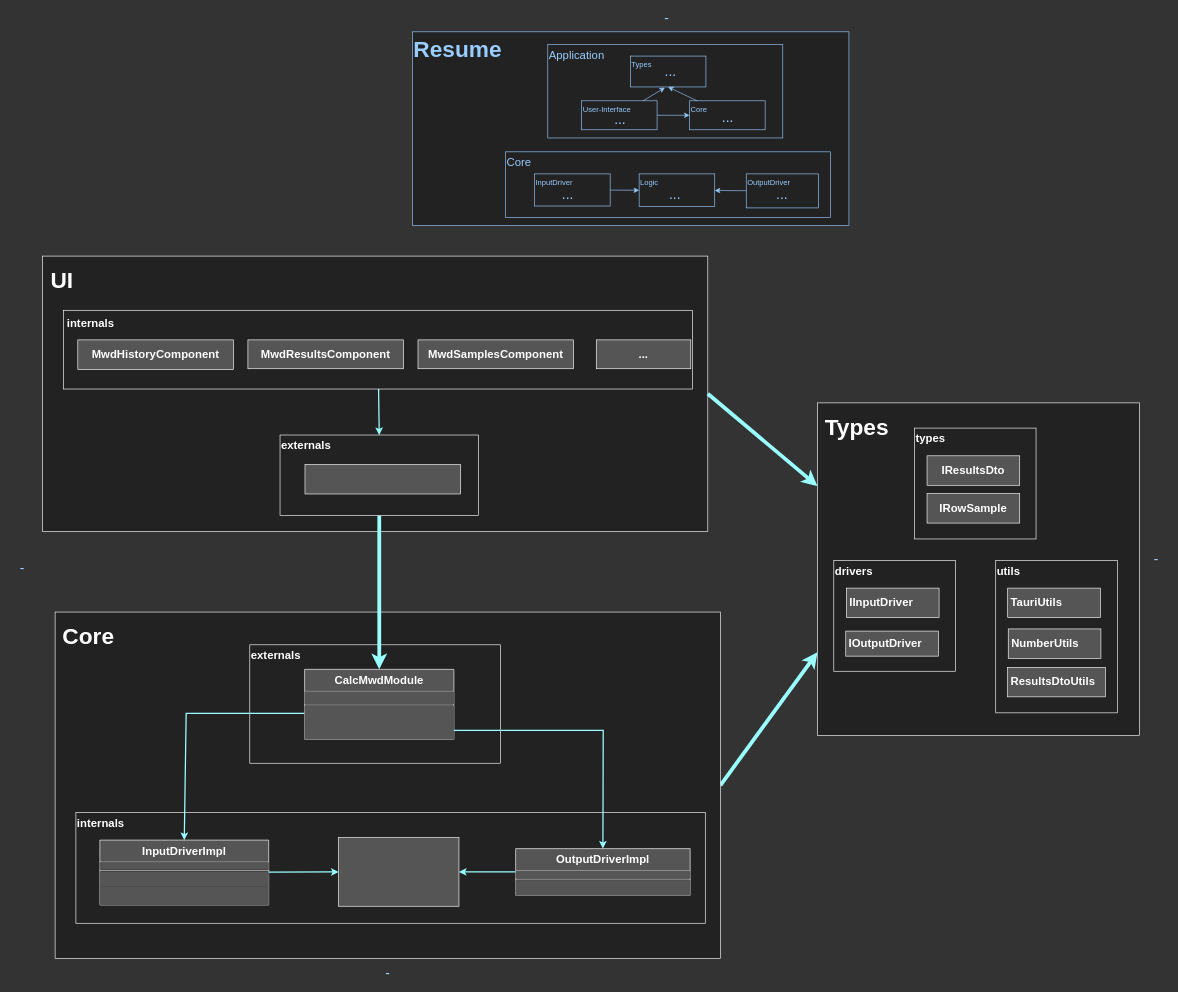
This 1178x992 diagram has some shape labels left out. Here are the shapes that lost their labels. From the top down, the centre of each, then its label:
the point at 382,479: MainLayoutComponent
the point at 379,713: getOutputDriver(): IOutputDriver
the point at 379,730: getInputDriver(): IInputDriver
the point at 184,878: resolveSamples(MapSamples): IResultsDto;
the point at 398,871: CalculatorImpl
the point at 602,887: resultsToCsv(IResultsDto, MapSamples): void;
the point at 184,895: parseFileToSamples(File): MapSamples;
